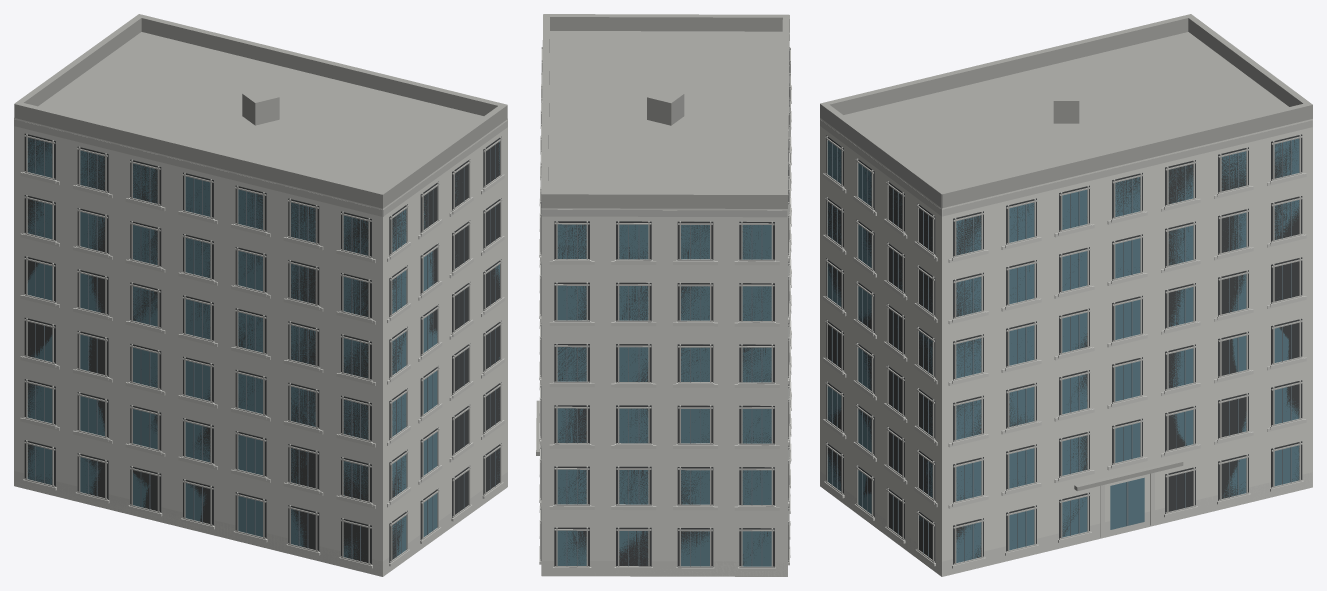
The model's file is cop_residencial_anos70_02__way_488128342.fbx.
3 renders of one model, left to right at view 1: azimuth 30°, elevation 25°; view 2: azimuth 150°, elevation 25°; view 3: azimuth 270°, elevation 25°, orthographic.
Parts seen in each view (by area): view 1: cop_residencial_anos70_02__way_488128342_wall, cop_residencial_anos70_02__way_488128342_roof, cop_residencial_anos70_02__way_488128342_shadow, cop_residencial_anos70_02__way_488128342_glass, cop_residencial_anos70_02__way_488128342_trim, cop_residencial_anos70_02__way_488128342_stone, cop_residencial_anos70_02__way_488128342_metal; view 2: cop_residencial_anos70_02__way_488128342_wall, cop_residencial_anos70_02__way_488128342_roof, cop_residencial_anos70_02__way_488128342_glass, cop_residencial_anos70_02__way_488128342_shadow, cop_residencial_anos70_02__way_488128342_trim, cop_residencial_anos70_02__way_488128342_stone, cop_residencial_anos70_02__way_488128342_metal; view 3: cop_residencial_anos70_02__way_488128342_wall, cop_residencial_anos70_02__way_488128342_roof, cop_residencial_anos70_02__way_488128342_glass, cop_residencial_anos70_02__way_488128342_shadow, cop_residencial_anos70_02__way_488128342_trim, cop_residencial_anos70_02__way_488128342_stone, cop_residencial_anos70_02__way_488128342_metal.
Part boxes in pixels (bbox=[...]): cop_residencial_anos70_02__way_488128342_wall: bbox=[14, 118, 507, 576]; cop_residencial_anos70_02__way_488128342_roof: bbox=[14, 14, 507, 208]; cop_residencial_anos70_02__way_488128342_shadow: bbox=[24, 133, 501, 564]; cop_residencial_anos70_02__way_488128342_glass: bbox=[27, 138, 499, 559]; cop_residencial_anos70_02__way_488128342_trim: bbox=[14, 119, 507, 565]; cop_residencial_anos70_02__way_488128342_stone: bbox=[14, 172, 507, 576]; cop_residencial_anos70_02__way_488128342_metal: bbox=[35, 139, 495, 561]; cop_residencial_anos70_02__way_488128342_wall: bbox=[541, 208, 788, 576]; cop_residencial_anos70_02__way_488128342_roof: bbox=[536, 14, 789, 455]; cop_residencial_anos70_02__way_488128342_glass: bbox=[557, 224, 771, 566]; cop_residencial_anos70_02__way_488128342_shadow: bbox=[541, 47, 789, 567]; cop_residencial_anos70_02__way_488128342_trim: bbox=[540, 33, 790, 567]; cop_residencial_anos70_02__way_488128342_stone: bbox=[539, 84, 791, 576]; cop_residencial_anos70_02__way_488128342_metal: bbox=[566, 224, 762, 566]; cop_residencial_anos70_02__way_488128342_wall: bbox=[820, 118, 1312, 576]; cop_residencial_anos70_02__way_488128342_roof: bbox=[820, 14, 1312, 491]; cop_residencial_anos70_02__way_488128342_glass: bbox=[827, 138, 1299, 562]; cop_residencial_anos70_02__way_488128342_shadow: bbox=[826, 134, 1302, 564]; cop_residencial_anos70_02__way_488128342_trim: bbox=[820, 119, 1312, 565]; cop_residencial_anos70_02__way_488128342_stone: bbox=[820, 173, 1312, 576]; cop_residencial_anos70_02__way_488128342_metal: bbox=[831, 140, 1291, 561].
Size of the model in its own units: 1889 by 1912 by 2181.
